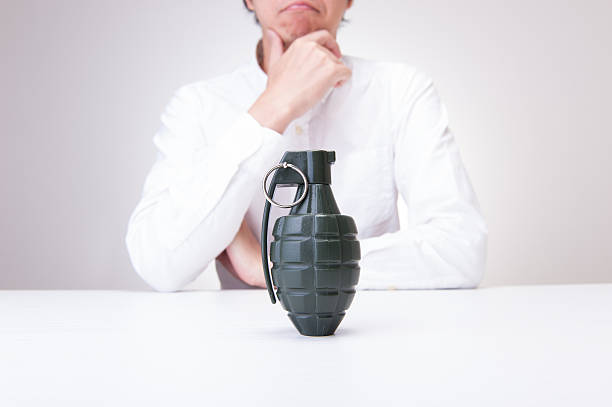e1: (260, 148, 361, 342)
